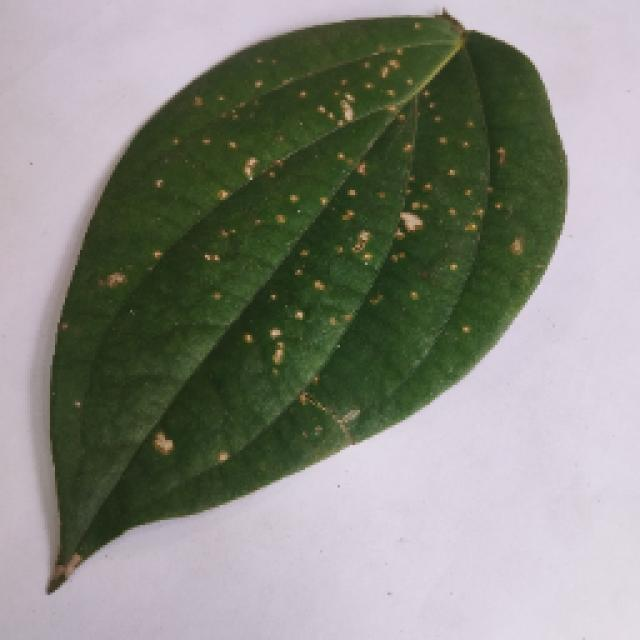pollu-disease: (30, 23, 572, 595)
